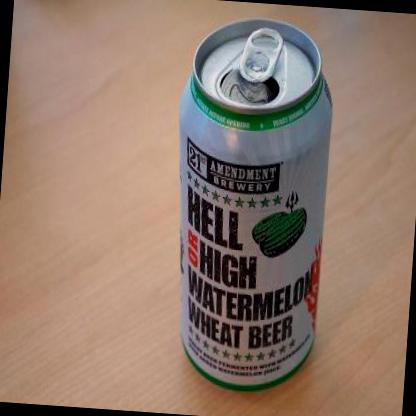alumunium_can: (161, 17, 342, 398)
